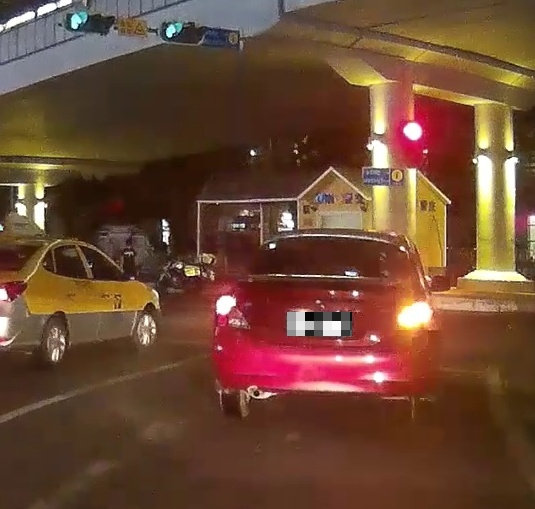L_light: (214, 295, 250, 329)
R_light: (395, 299, 435, 331)
T_light: (311, 235, 341, 242)
night-right: (212, 228, 439, 424)
plate_1: (287, 312, 352, 336)
